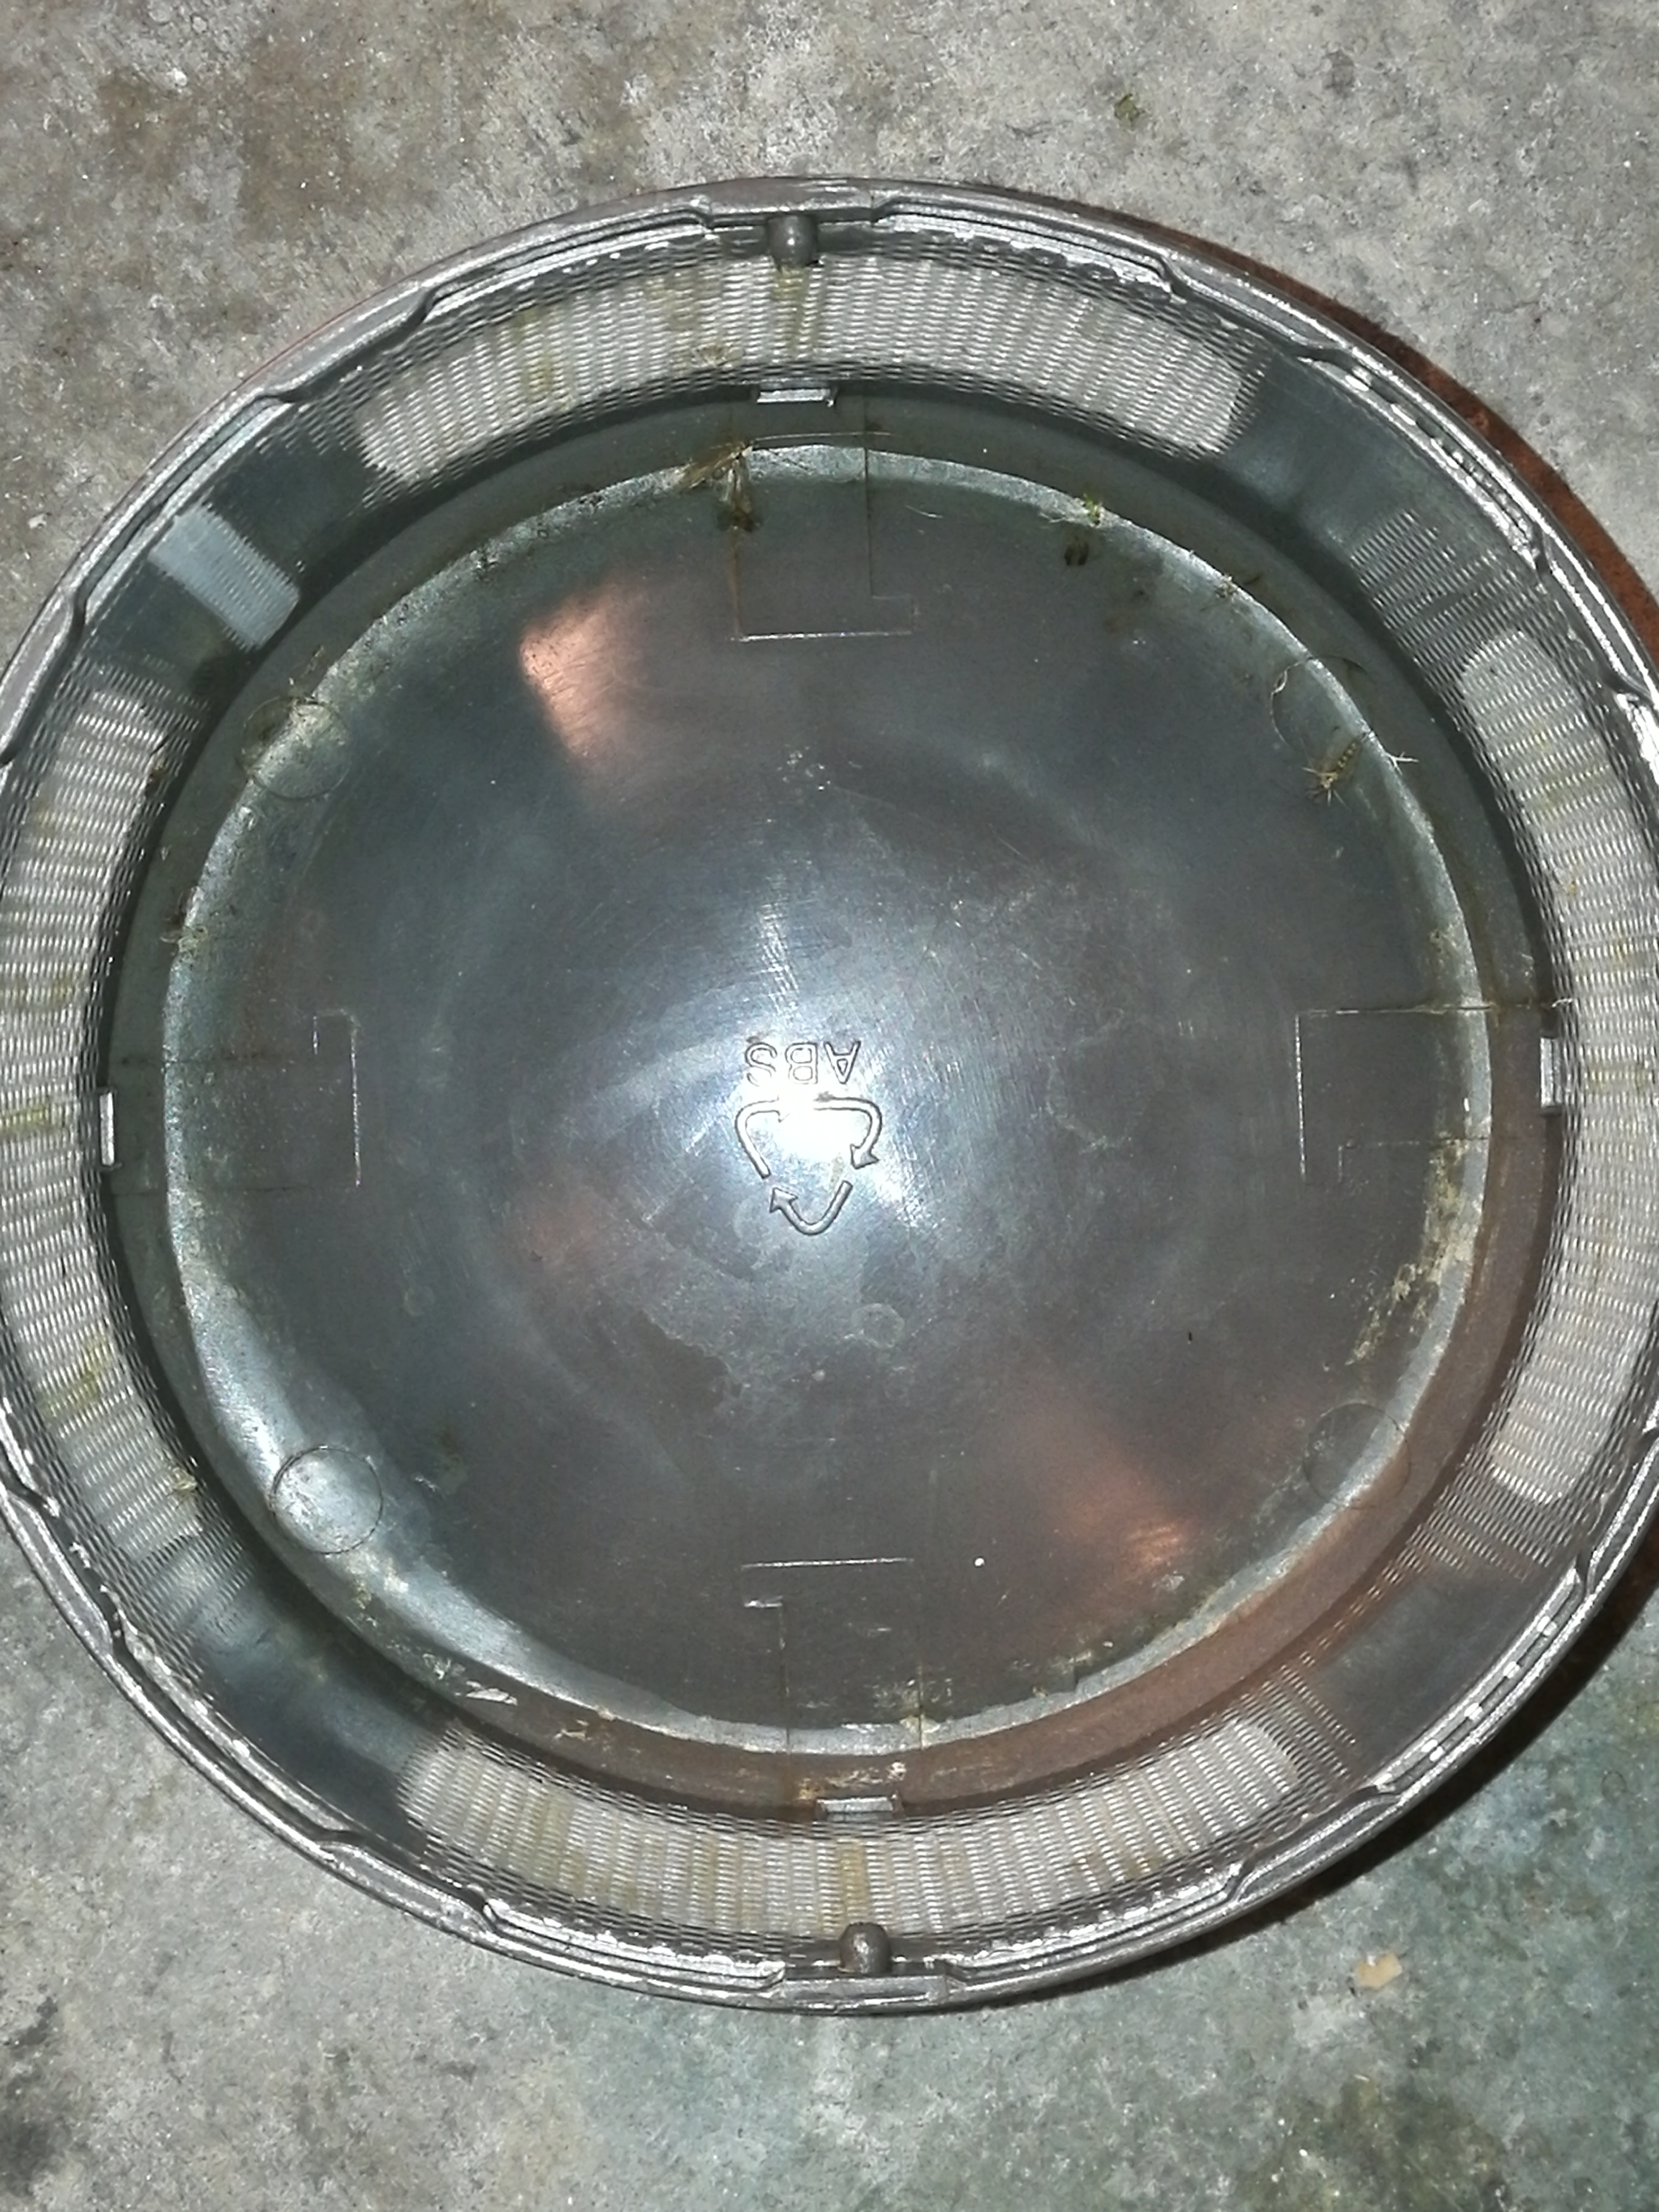mosquito: (1310, 730, 1366, 803)
moth: (680, 441, 748, 491), (718, 456, 753, 533)
